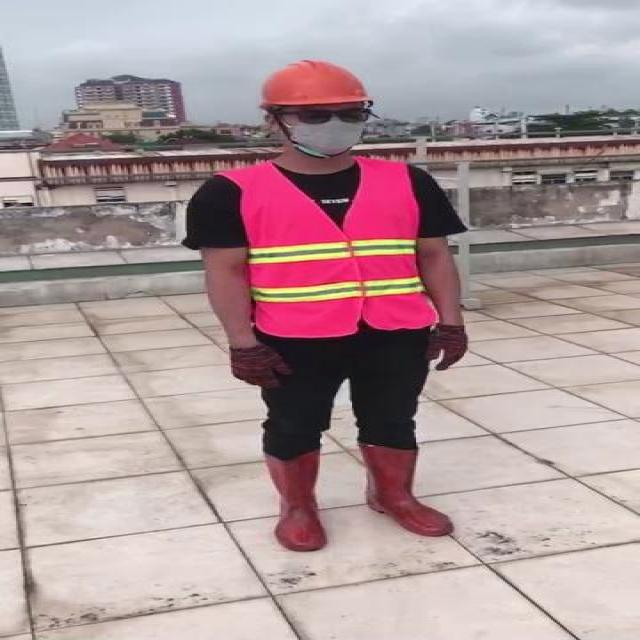boots: (358, 440, 453, 536), (263, 448, 325, 551)
face_mask: (279, 101, 375, 157)
glasses: (284, 102, 374, 128)
hand_glove: (228, 345, 295, 390), (427, 323, 469, 369)
head_helmet: (252, 54, 380, 114)
person: (178, 51, 476, 554)
vest: (242, 162, 430, 334)
